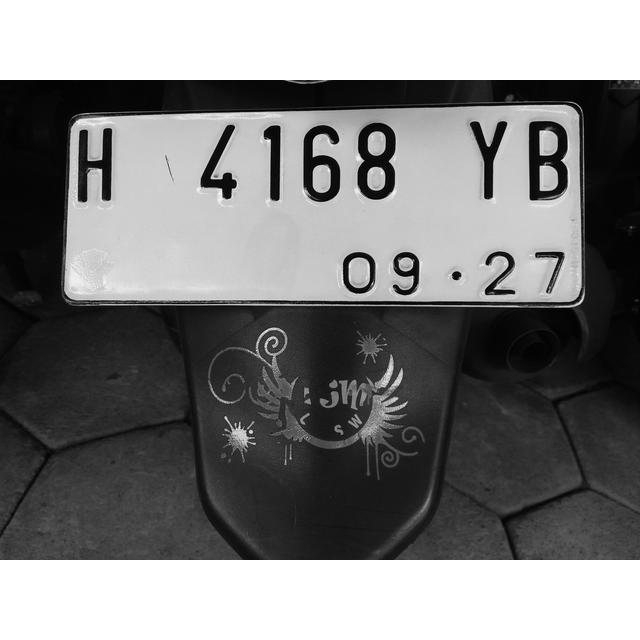license: (76, 113, 576, 302)
